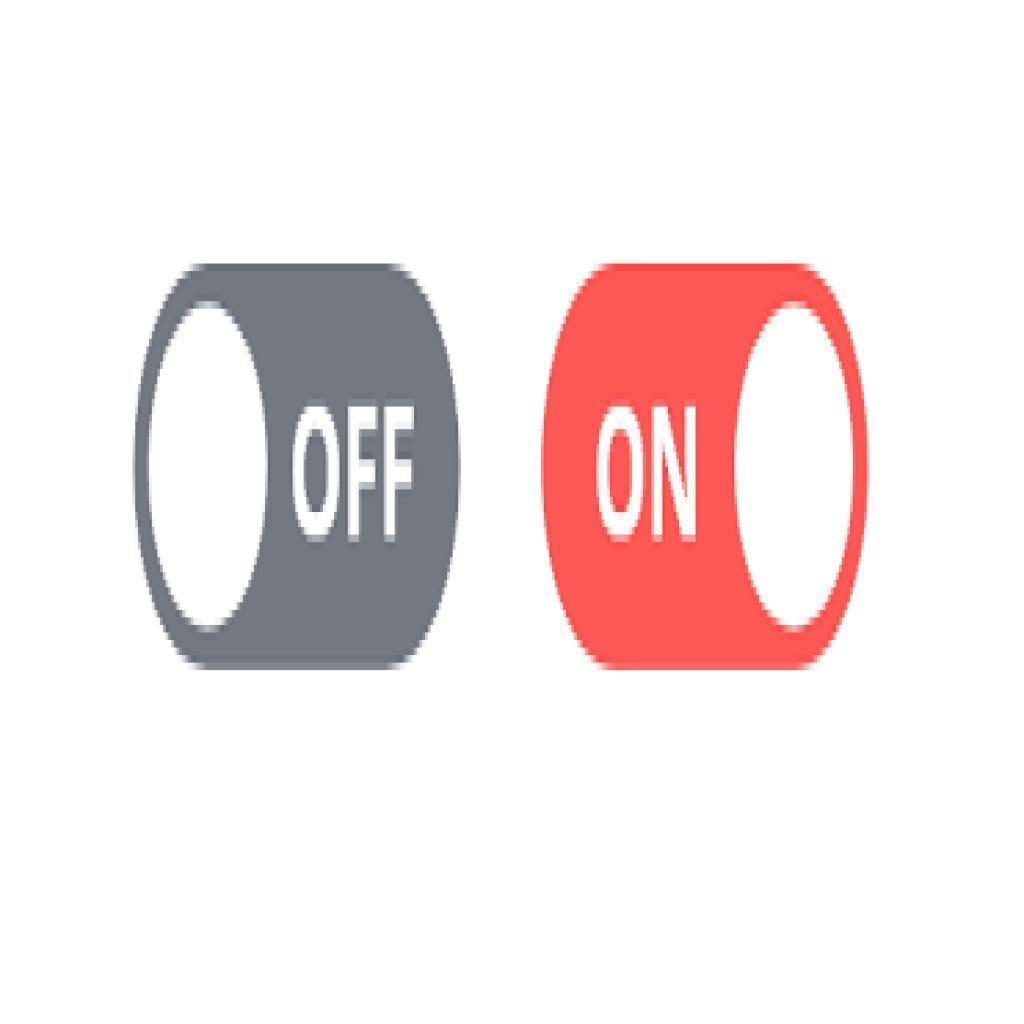switch: (537, 263, 872, 673), (132, 262, 461, 672)
